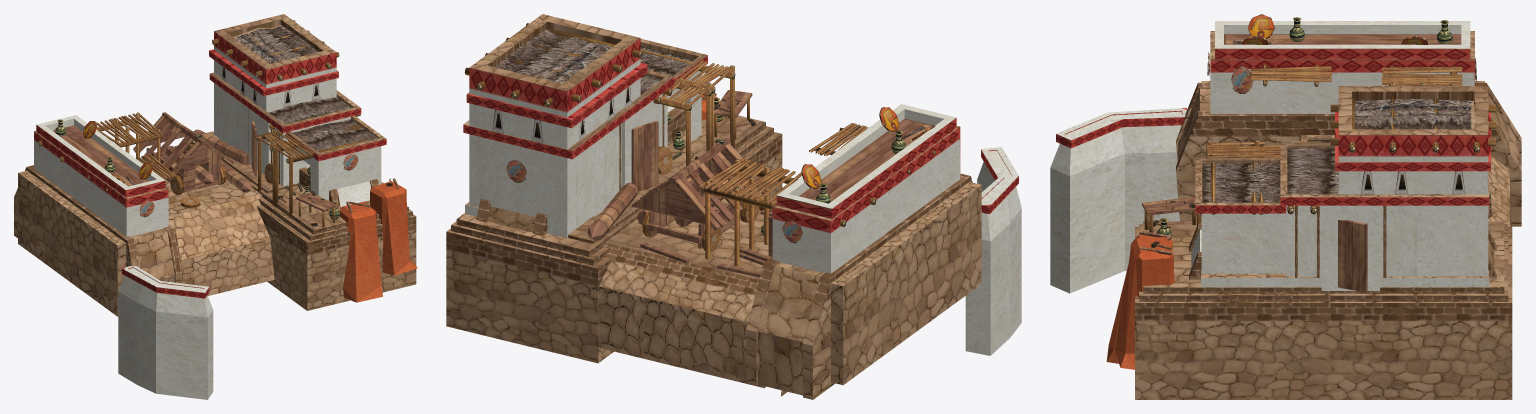
File: mex_workshop.dae
3 views of the same model, side by side, from view 1: azimuth 30°, elevation 25°; view 2: azimuth 150°, elevation 25°; view 3: azimuth 270°, elevation 25° (orthographic). The views are drawn at different scales.
Visible parts, largest first — view 1: WSM; view 2: WSM; view 3: WSM.
Part boxes in pixels (left/top/right/bottom): WSM: left=14, top=14, right=417, bottom=399; WSM: left=446, top=14, right=1021, bottom=399; WSM: left=1050, top=14, right=1521, bottom=399.
Bounding box in the file's own units: 27.7 × 28.17 × 20.46.
